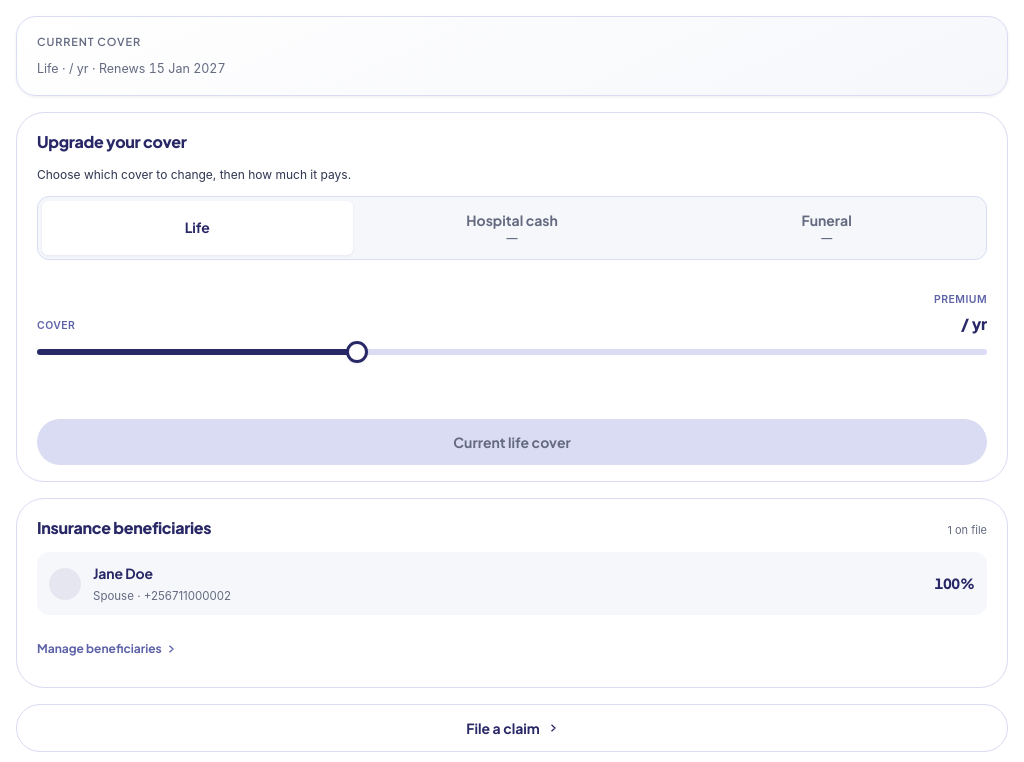
Test case: InsurancePage › non-adjustable policies › a building policy › warns when the pace is zero, because the cover would never finish
Click the radio button labelled "Funeral —": x=827, y=228 [671, 201, 982, 255]
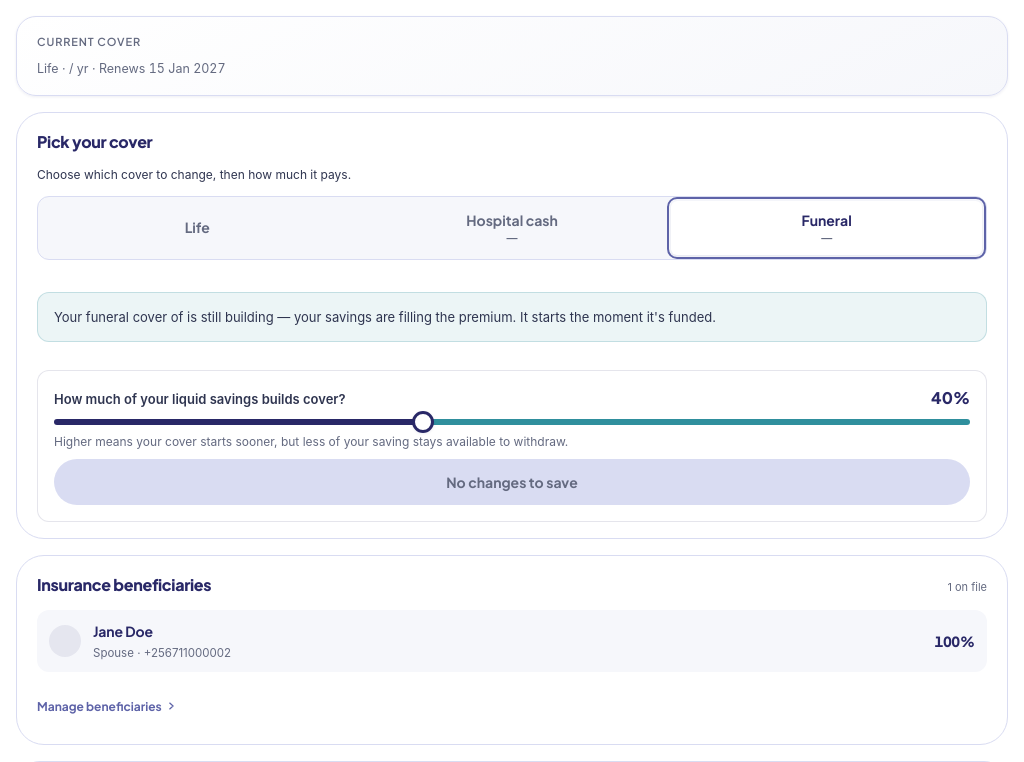
Set the slider named "percent of liquid savings that builds cover" to "0": x=62, y=422 [54, 419, 970, 425]
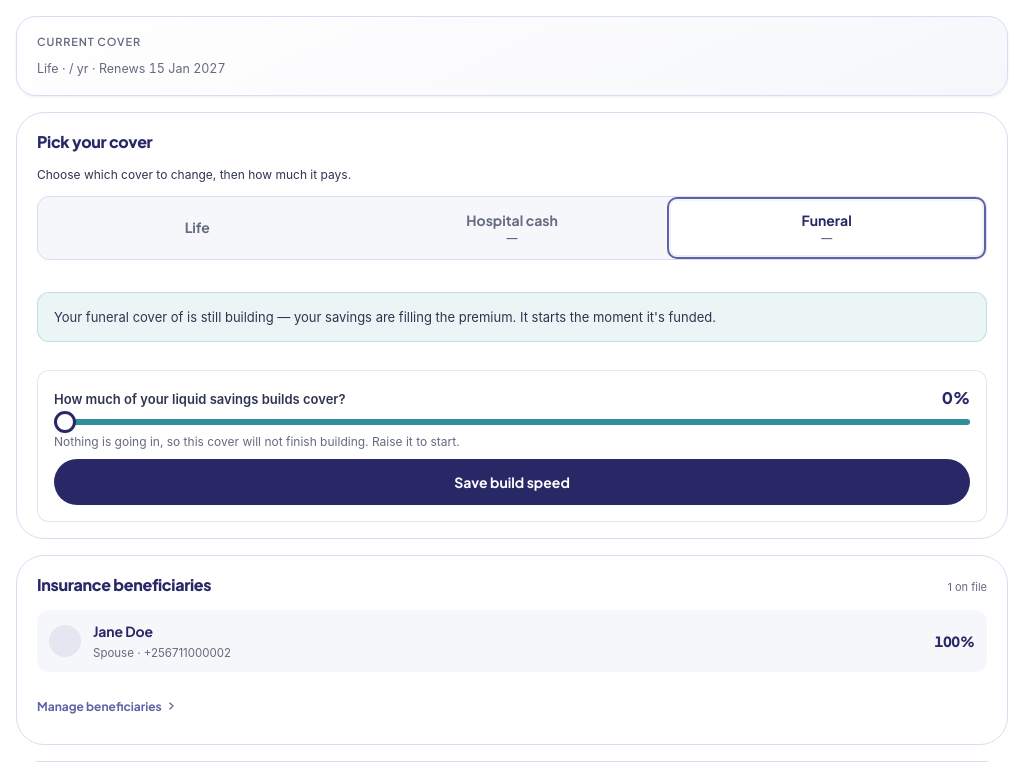
Result: the text "will not finish building" is shown at [54, 434, 460, 449]
